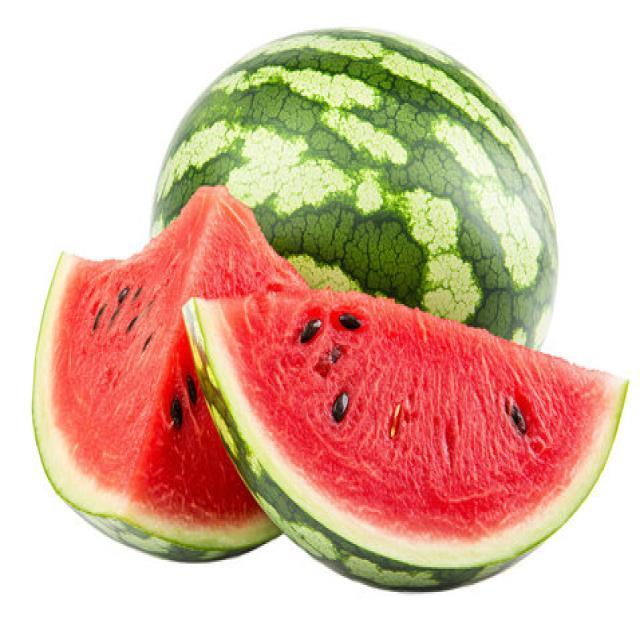Watermelon: (150, 26, 593, 340), (192, 279, 636, 576), (32, 185, 309, 550)
